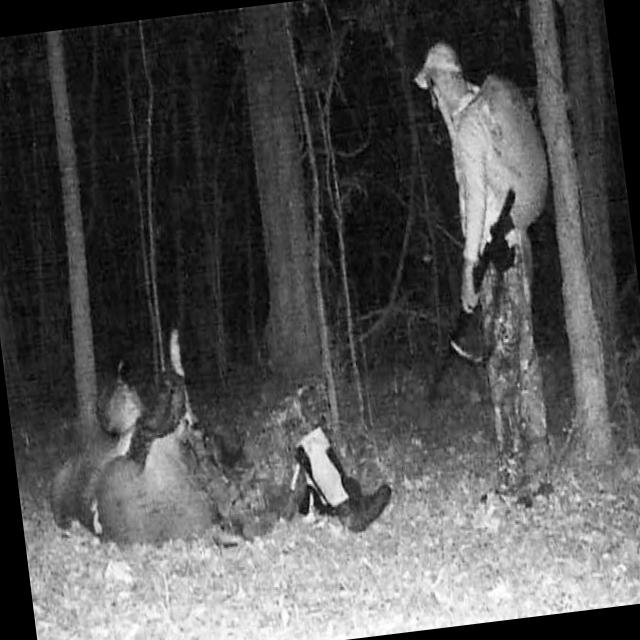poacher: (390, 23, 562, 495)
